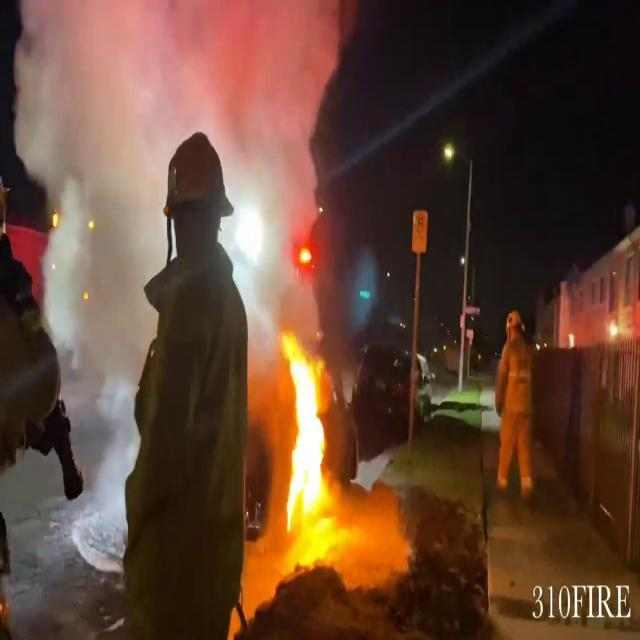Fire: (276, 318, 332, 540)
Smoke: (9, 0, 347, 276)
